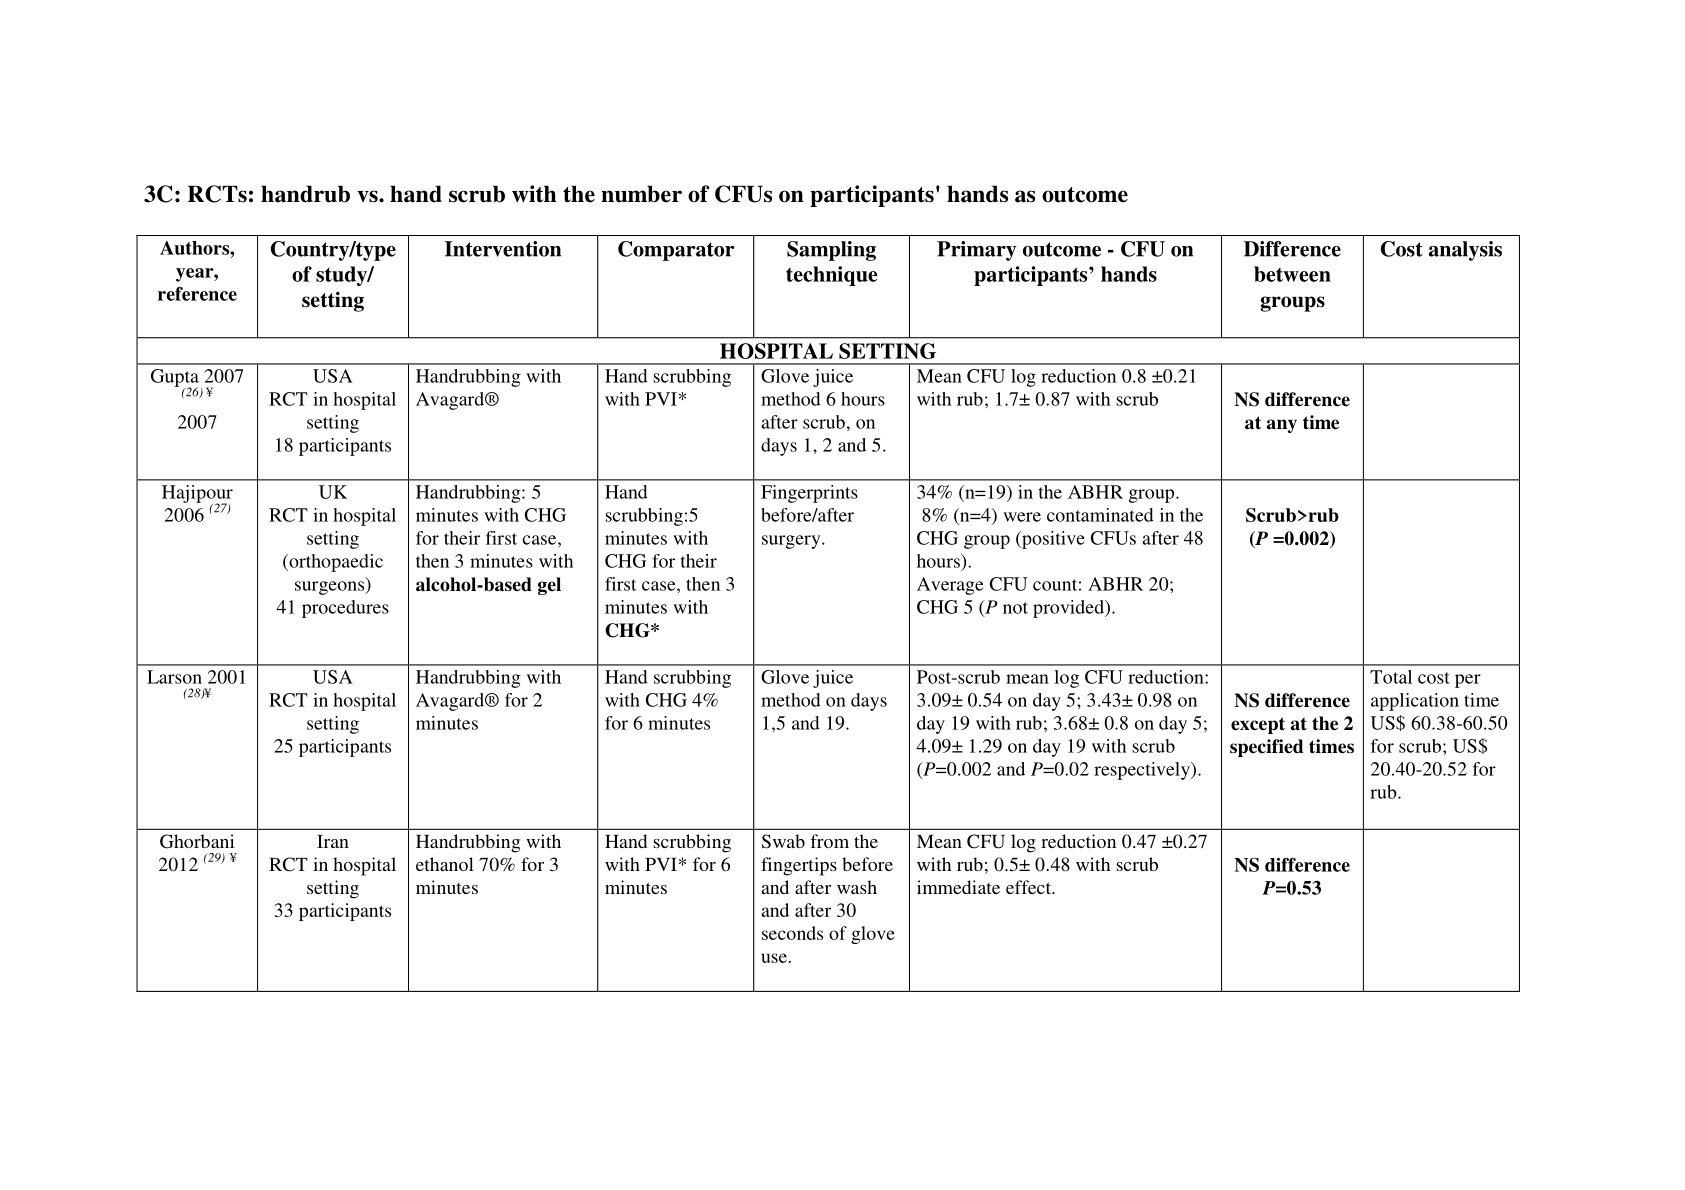merged_cells: (134, 233, 1520, 993)
